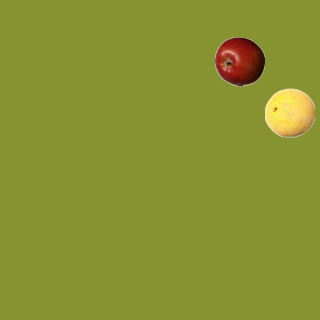Apple Braeburn: (214, 36, 264, 86)
Cantaloupe 1: (264, 87, 314, 137)
